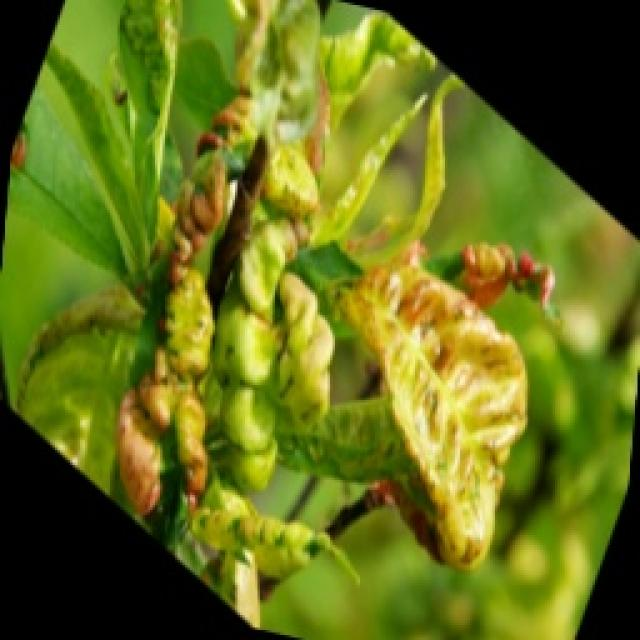peach_leaf_curl: (8, 0, 560, 608)
